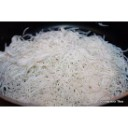idiyappam: (4, 35, 126, 99)
